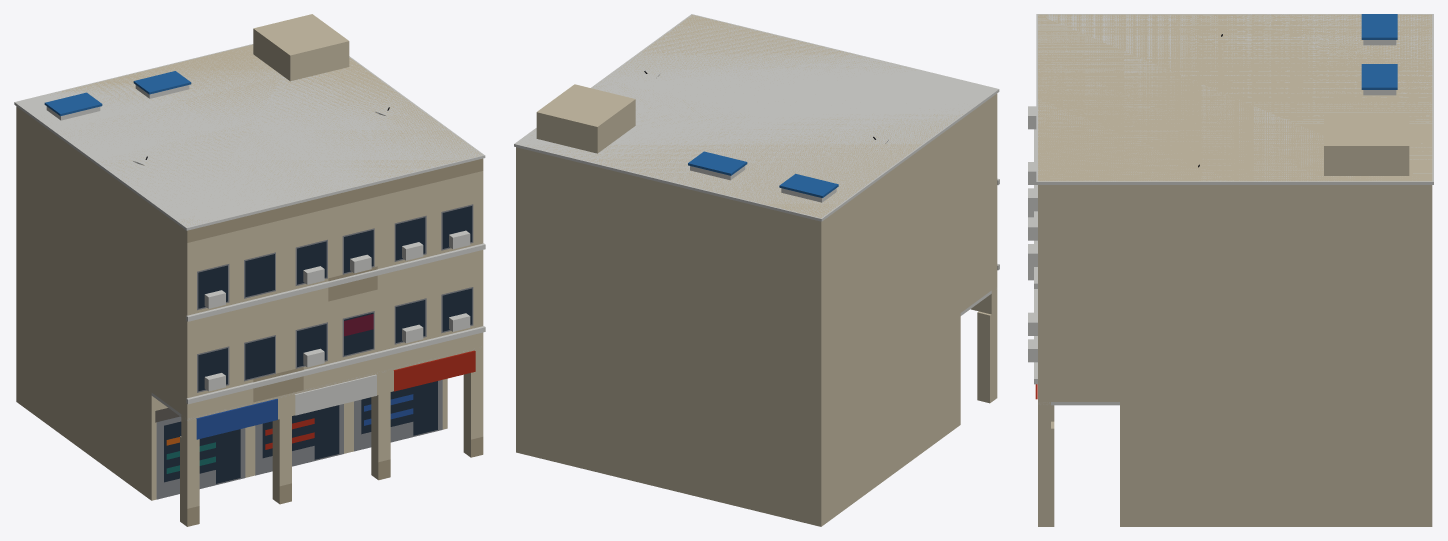
Rendered from bld_deira-arcade_b.8c88f1a0d641.glb.
3 views of the same model, side by side, from view 1: azimuth 30°, elevation 25°; view 2: azimuth 150°, elevation 25°; view 3: azimuth 270°, elevation 25° (orthographic). The views are drawn at different scales.
Parts seen in each view (by area): view 1: body; view 2: body; view 3: body.
Part boxes in pixels (bbox=[...]): body: bbox=[14, 14, 485, 526]; body: bbox=[514, 14, 999, 526]; body: bbox=[1028, 14, 1433, 526].
Bounding box in the file's own units: 12.1 × 12.6 × 12.35.
